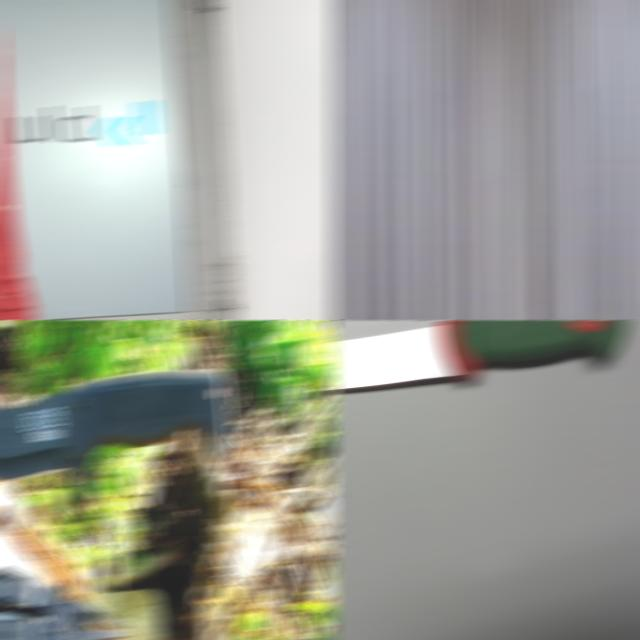Knife: (328, 320, 629, 390)
